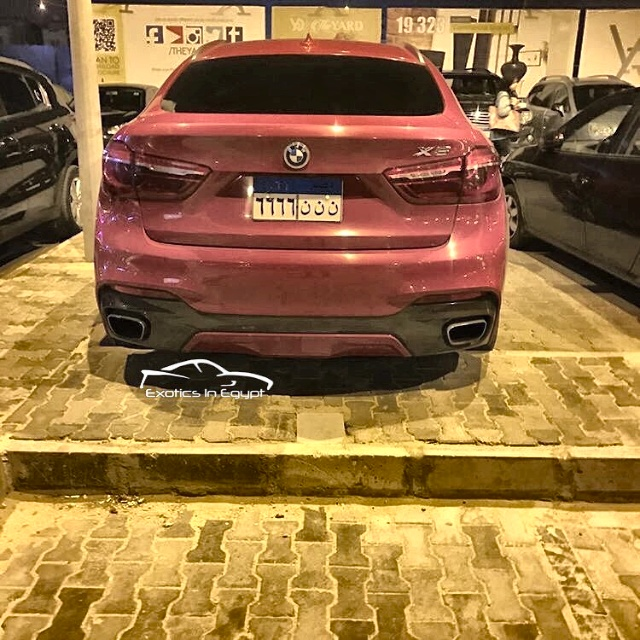License Plate: (249, 172, 346, 225)
